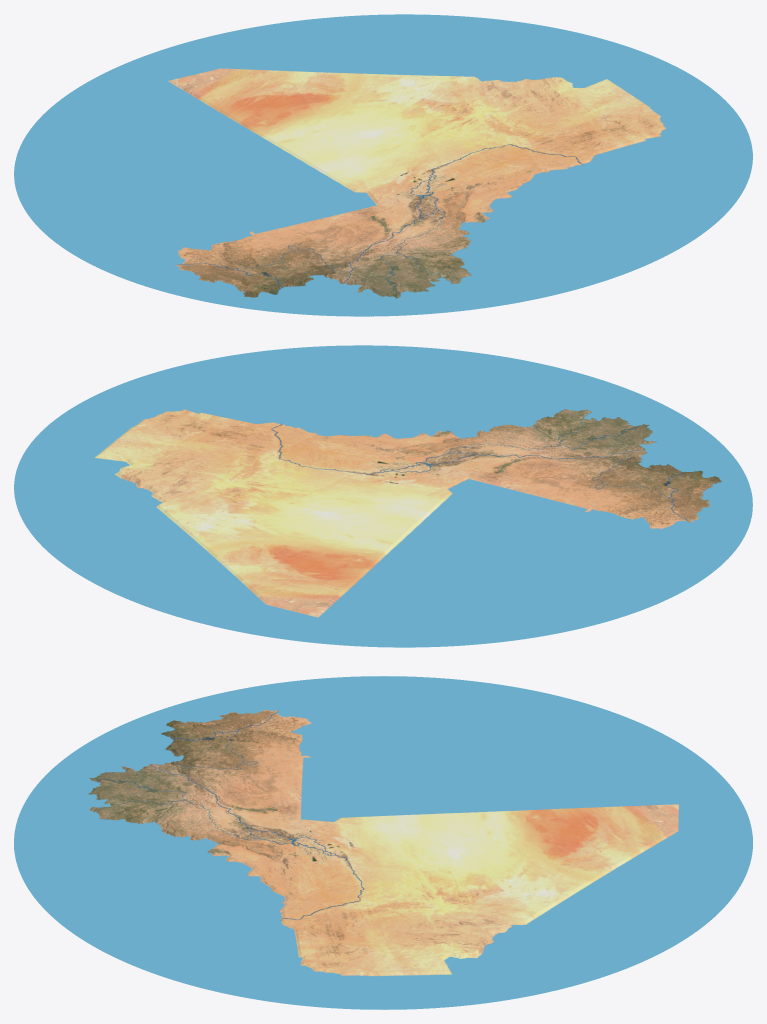
File: MLI-previa-terrain.glb
3 renders of one model, top to bottom at view 1: azimuth 30°, elevation 25°; view 2: azimuth 150°, elevation 25°; view 3: azimuth 270°, elevation 25°, orthographic. The views are drawn at different scales.
Parts seen in each view (by area): view 1: Mali; view 2: Mali; view 3: Mali.
Boxes of the visible parts, x1,y1,x2,y2 form: Mali: [14, 14, 752, 316]; Mali: [14, 345, 752, 647]; Mali: [14, 676, 752, 1009].
Bounding box in the file's own units: 2.22 × 0.0136 × 2.08.
1 material, 1 textured.
